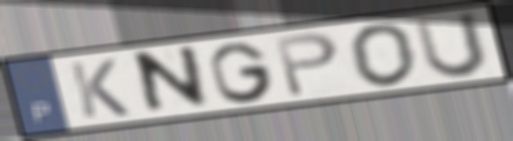G: (206, 40, 278, 105)
K: (65, 57, 133, 120)
N: (135, 42, 213, 119)
O: (346, 21, 421, 89)
P: (271, 30, 343, 100)
U: (410, 9, 492, 81)
